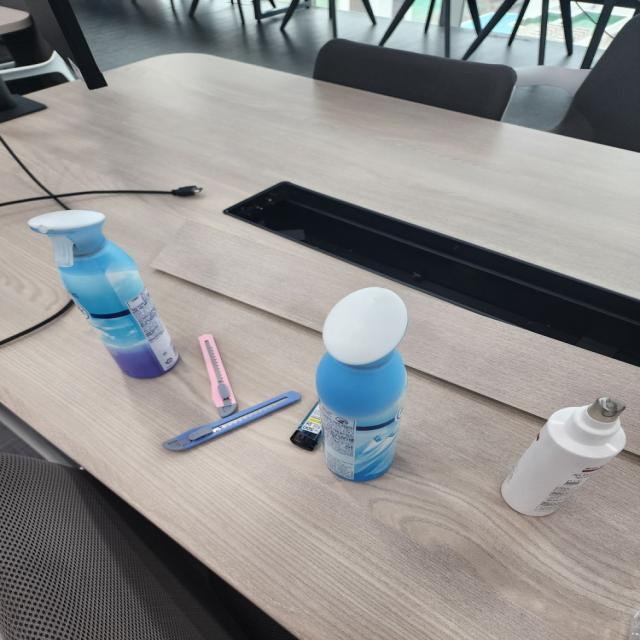cutter: (165, 392, 302, 456), (196, 331, 240, 423)
lighter: (289, 398, 329, 455)
spray: (29, 206, 183, 382), (318, 287, 409, 479), (498, 395, 630, 522)
